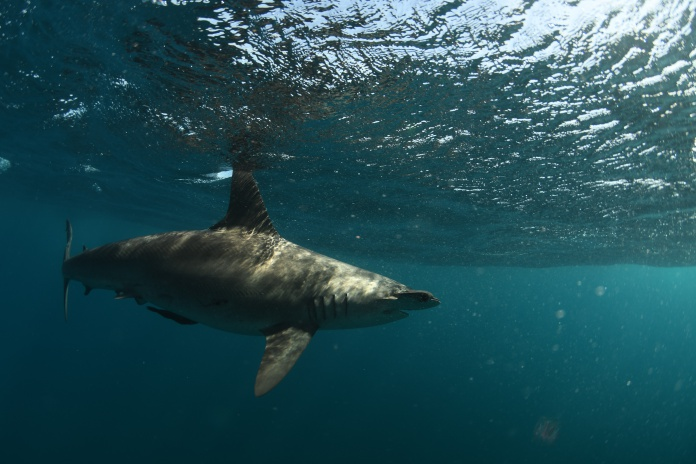Hammer: (34, 158, 461, 407)
